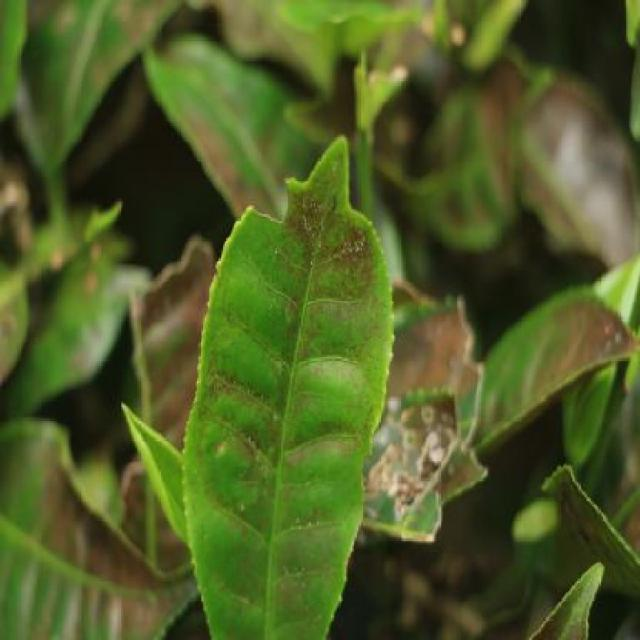Red Spider infested tea leaf: (168, 140, 423, 640)
